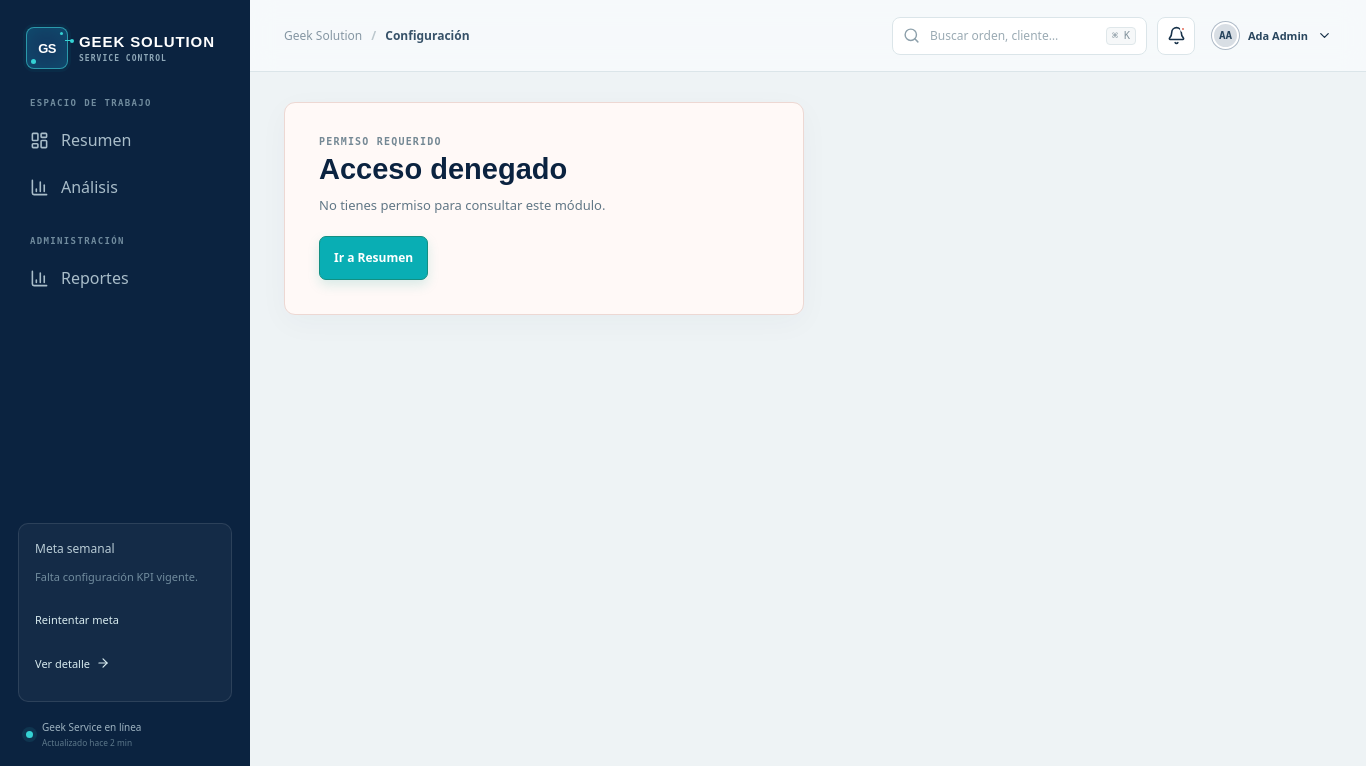
Test: distingue una configuración KPI ausente de una falla de conexión
Expected: the text "Falta configuración KPI vigente." is shown, [35,569,215,584]
Click the button "Ver detalle" at [72, 663], box [35,641,110,685]
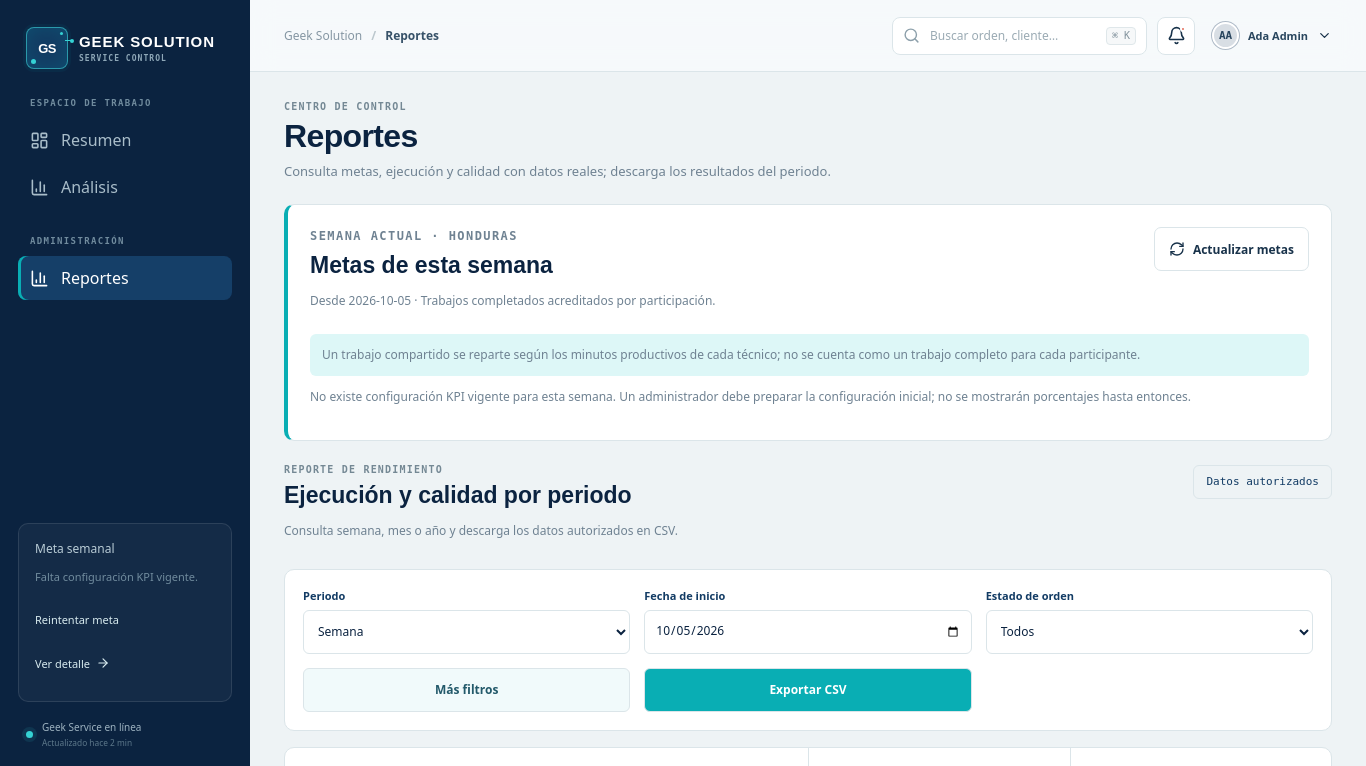
Expected: the text "No existe configuración KPI vigente para esta semana. Un administrador debe preparar la configuración inicial; no se mos" is shown, [310,388,1191,405]
